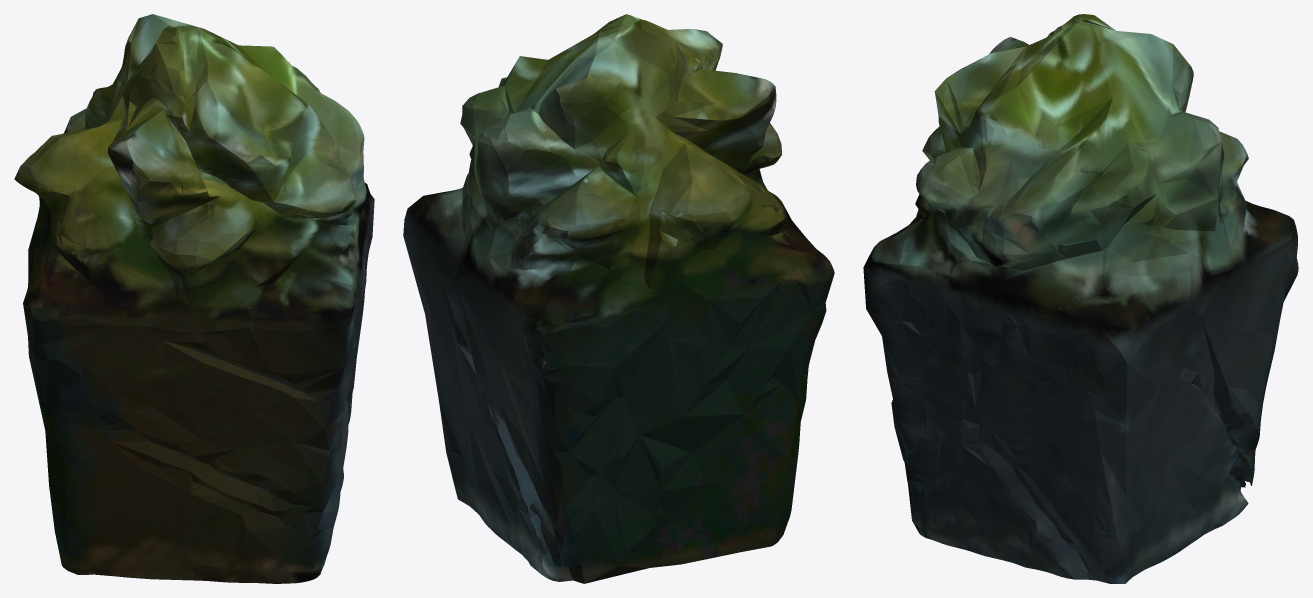
Rendered from model_New Qlone_lp_20210616_131939867.obj.
The picture shows the model from 3 angles, left to right: view 1: azimuth 30°, elevation 25°; view 2: azimuth 150°, elevation 25°; view 3: azimuth 270°, elevation 25°; orthographic projection. The views are drawn at different scales.
Bounding box in the file's own units: 42.84 × 53.41 × 42.68.
1 material, 1 textured.
